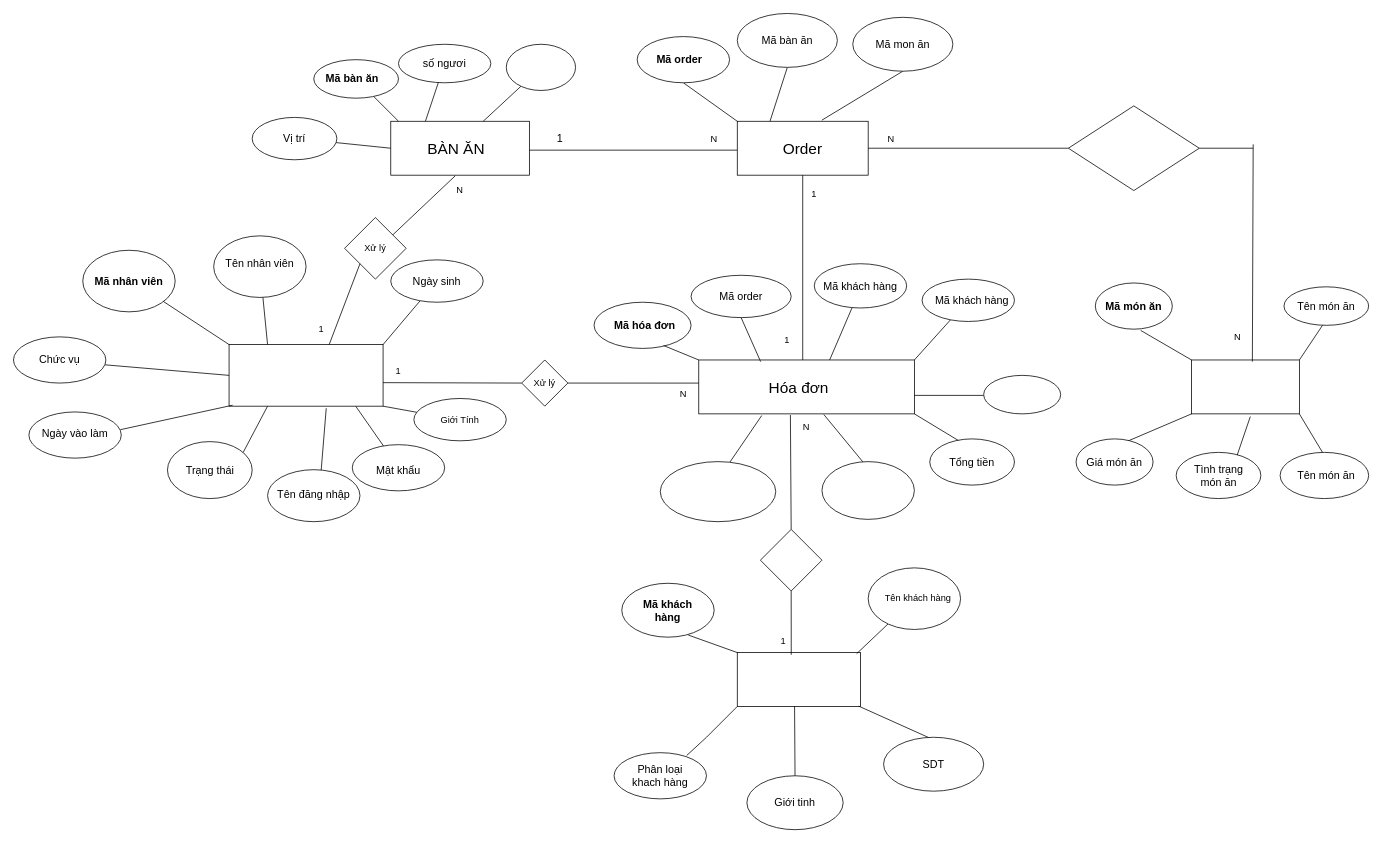
Some shapes in this 1382 by 843 pixel diagram are drawn without their labels. The centre of each missing label's shape, as x and y in pixels:
"Chi tiết order" belongs at [1133,148].
"Khách hàng" belongs at [798,679].
"Món ăn" belongs at [1245,386].
"Ngày lập" belongs at [1022,394].
"Nhân viên" belongs at [305,375].
"Phương thức thanh toán" belongs at [867,490].
"Thanh toán" belongs at [791,560].
"Tình trạng" belongs at [541,67].
"Tình trạng thanh toán" belongs at [718,491].
